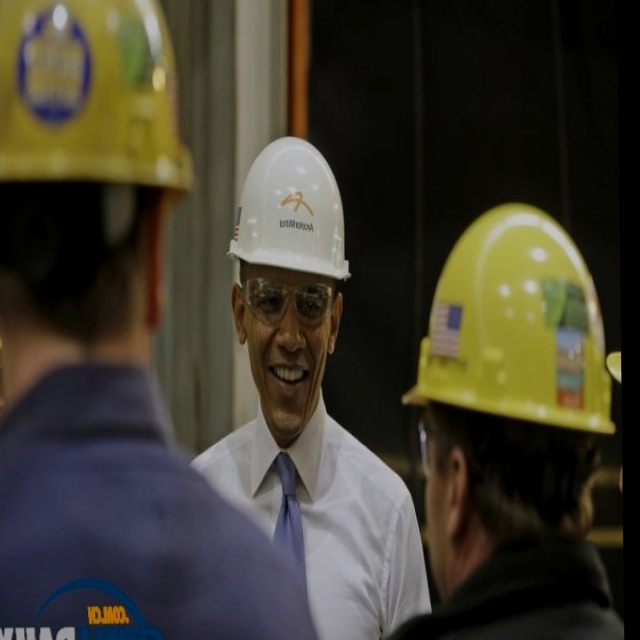Con_Casco: (402, 205, 613, 587), (224, 134, 351, 439)
